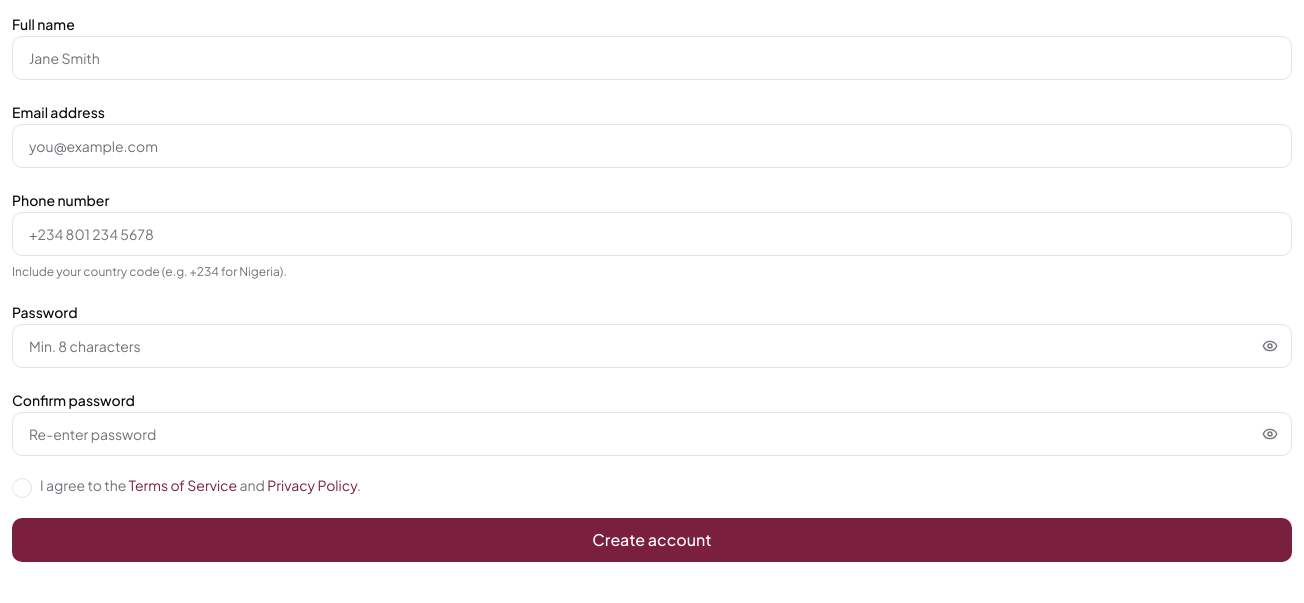
Test: RegisterForm (F8.3) › shows password mismatch error
The image size is (1304, 603).
In the field labelled "Full name": (652, 58) left=12, top=36, right=1292, bottom=80, type "Collins Okeke"
In the field labelled "Email address": (652, 146) left=12, top=124, right=1292, bottom=168, type "collins@example.com"
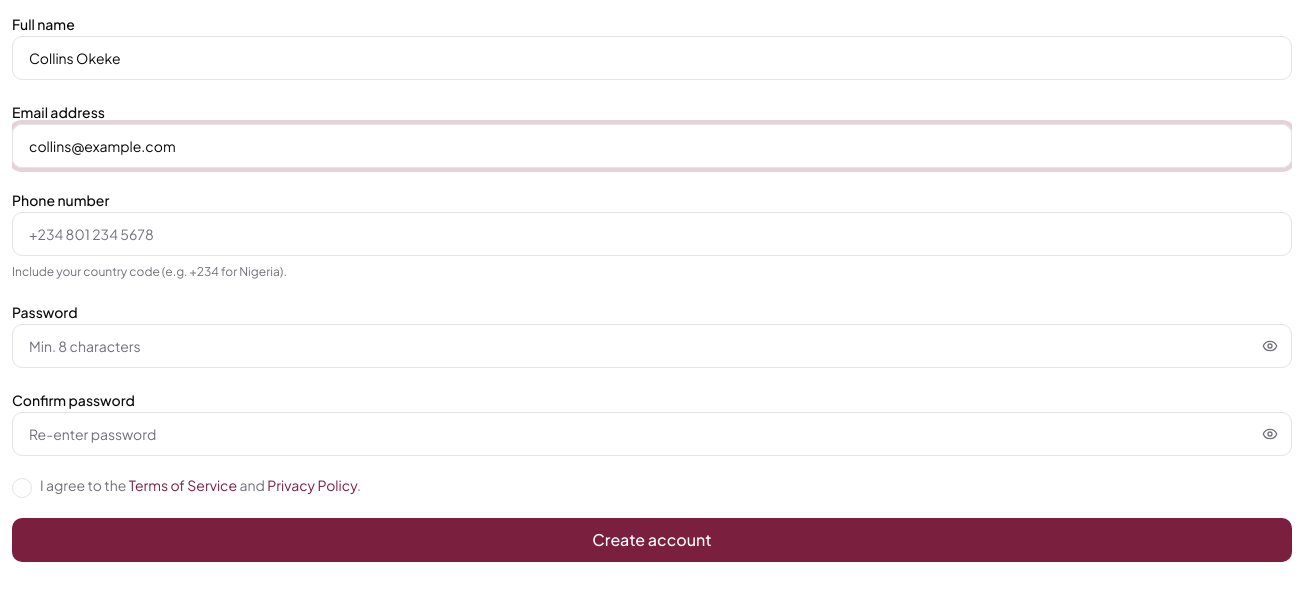
In the field labelled "Phone number": (652, 234) left=12, top=212, right=1292, bottom=256, type "+2348012345678"
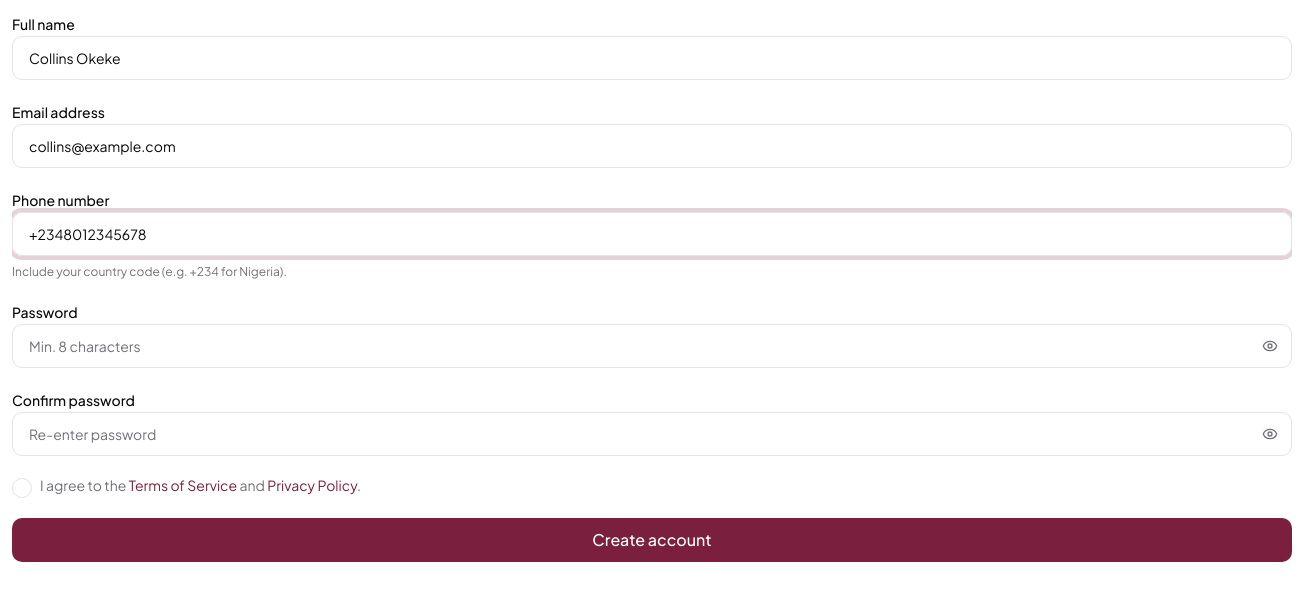
In the password field with placeholder "Min. 8 characters": (652, 346) left=12, top=324, right=1292, bottom=368, type "Secret123!"
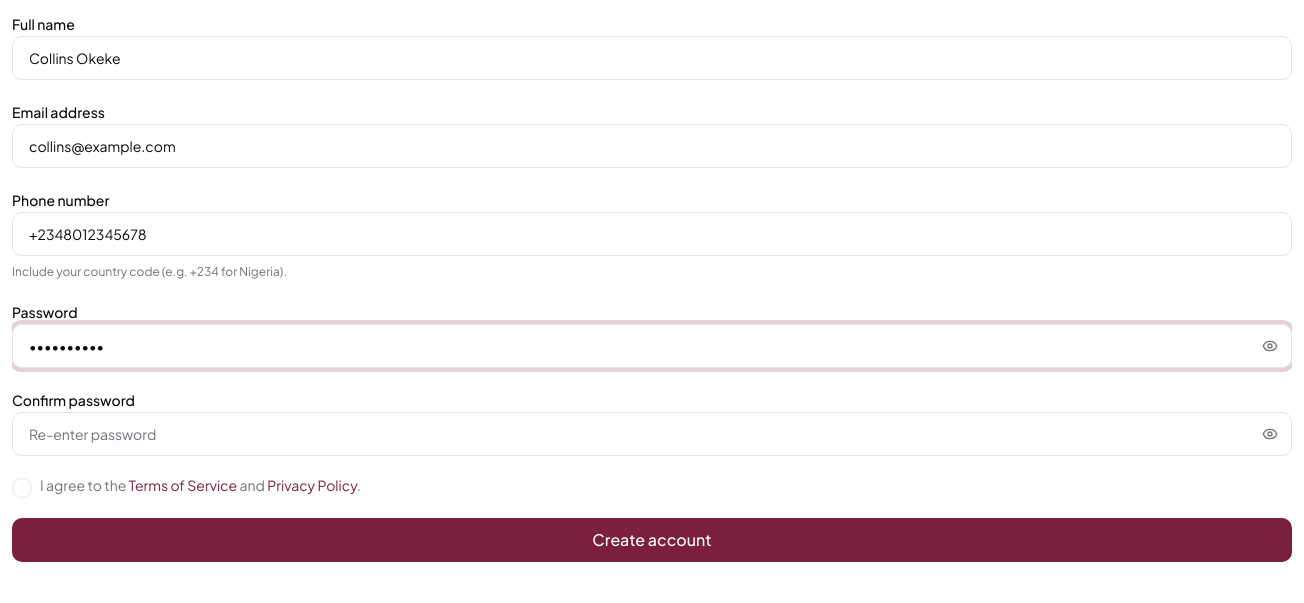
In the password field with placeholder "Re-enter password": (652, 434) left=12, top=412, right=1292, bottom=456, type "DifferentPass!"
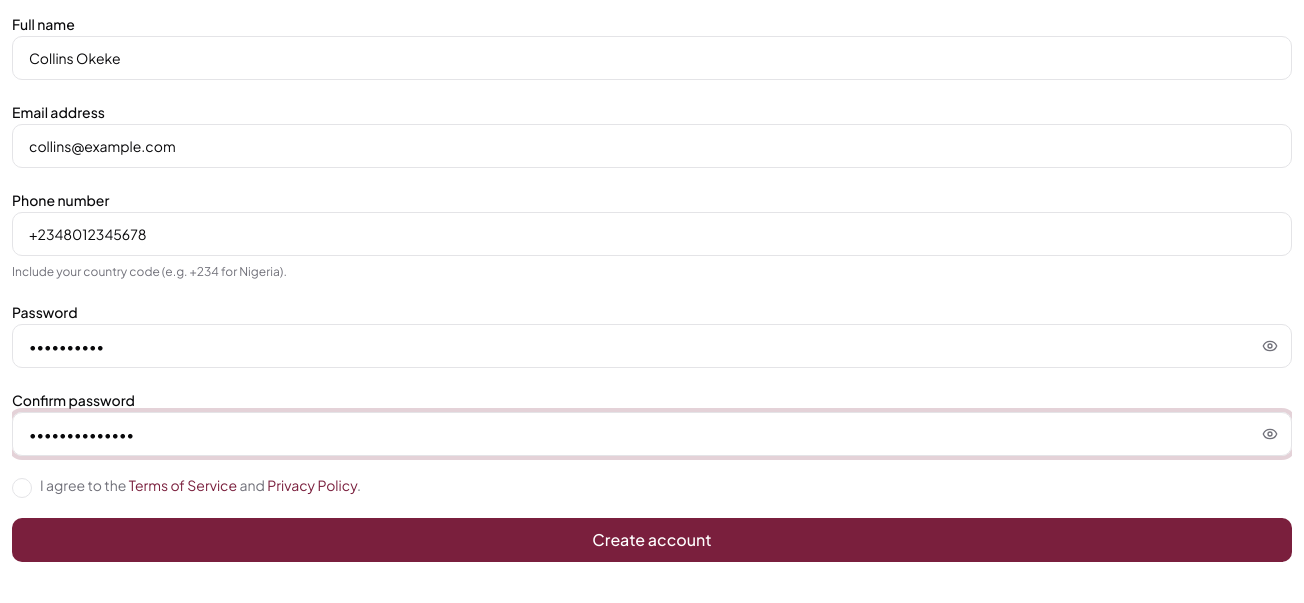
Click the checkbox: (22, 488) left=12, top=478, right=32, bottom=498
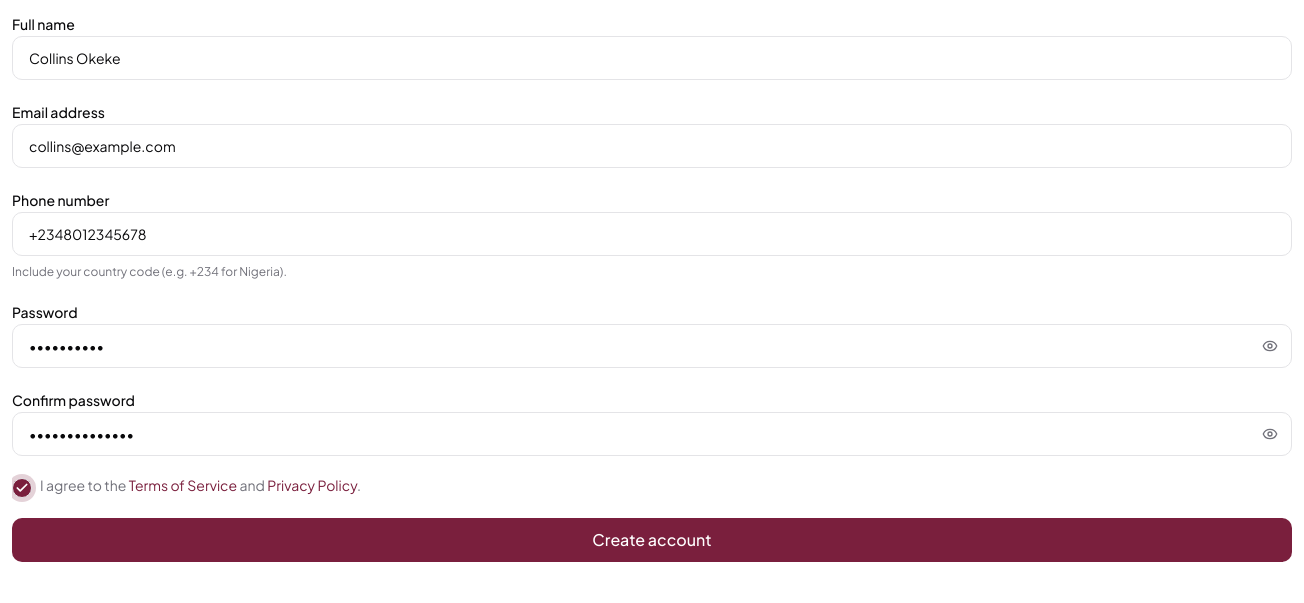
Click the button "Create account": (652, 540) left=12, top=518, right=1292, bottom=562
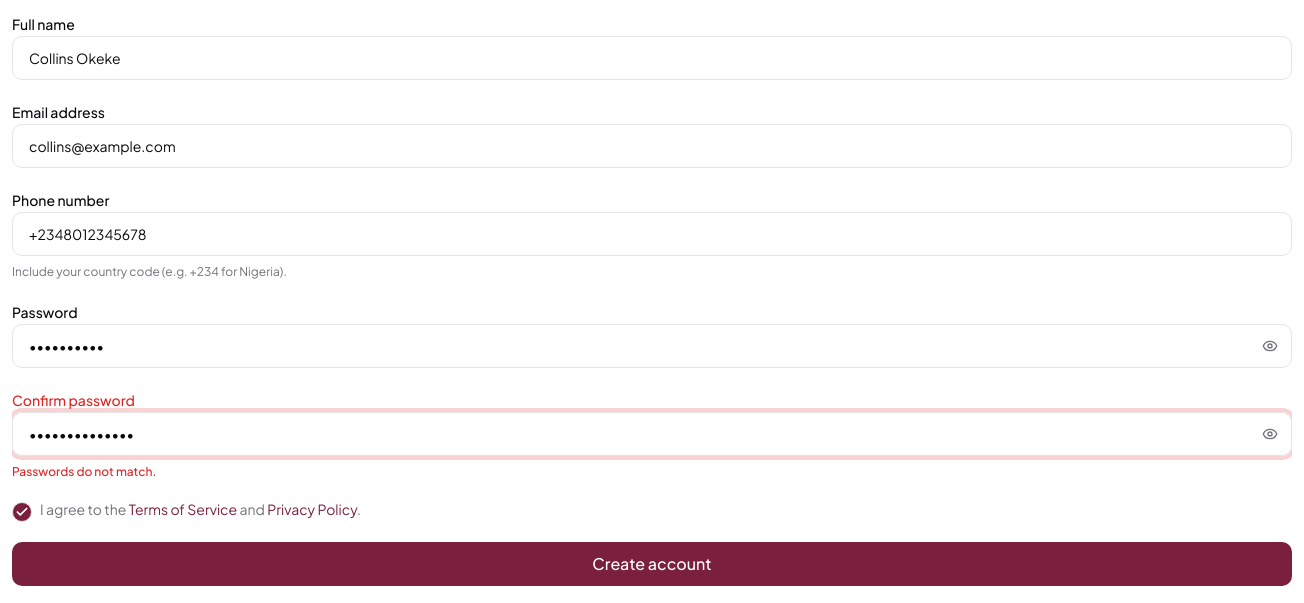
Result: the text "Passwords do not match." is shown at left=12, top=464, right=156, bottom=479
